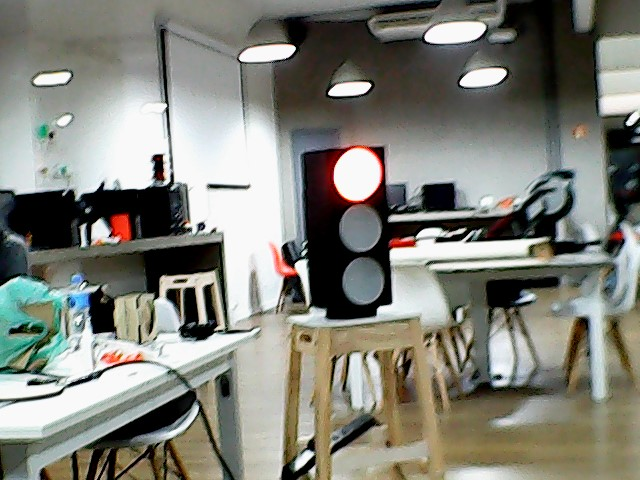vermelho: (299, 147, 399, 311)
